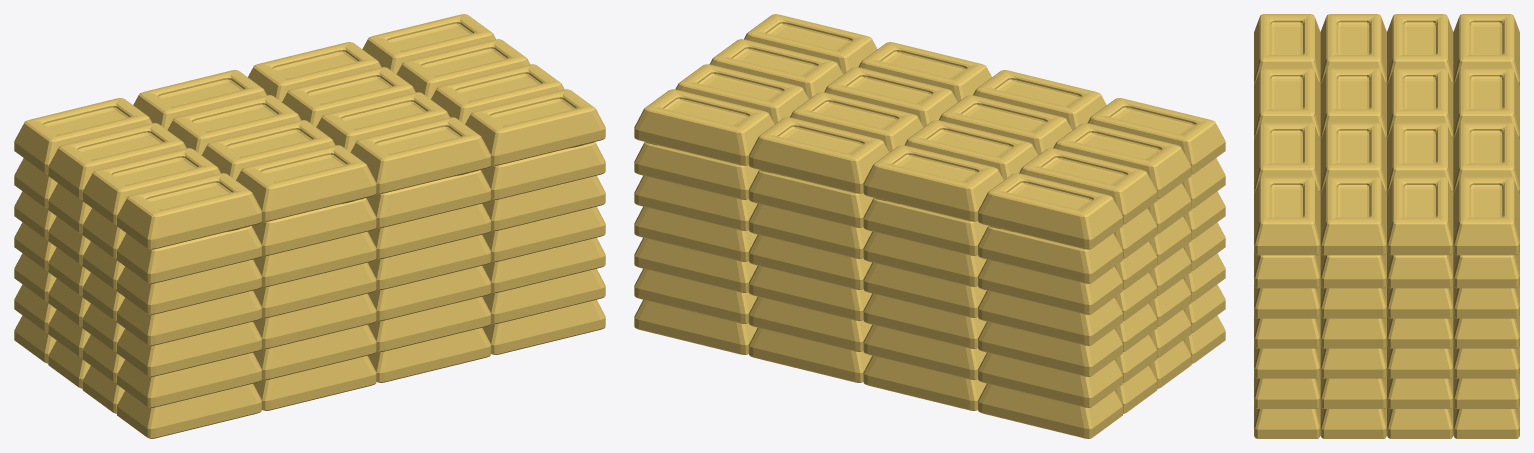
Rendered from clusterLingotes.fbx.
The picture shows the model from 3 angles, left to right: view 1: azimuth 30°, elevation 25°; view 2: azimuth 150°, elevation 25°; view 3: azimuth 270°, elevation 25°; orthographic projection. The views are drawn at different scales.
Parts seen in each view (by area): view 1: Cube.001; view 2: Cube.001; view 3: Cube.001.
Part boxes in pixels (bbox=[...]): Cube.001: bbox=[14, 14, 605, 438]; Cube.001: bbox=[634, 14, 1225, 438]; Cube.001: bbox=[1254, 14, 1519, 438].
Size of the model in its own units: 714 by 329 by 370.
